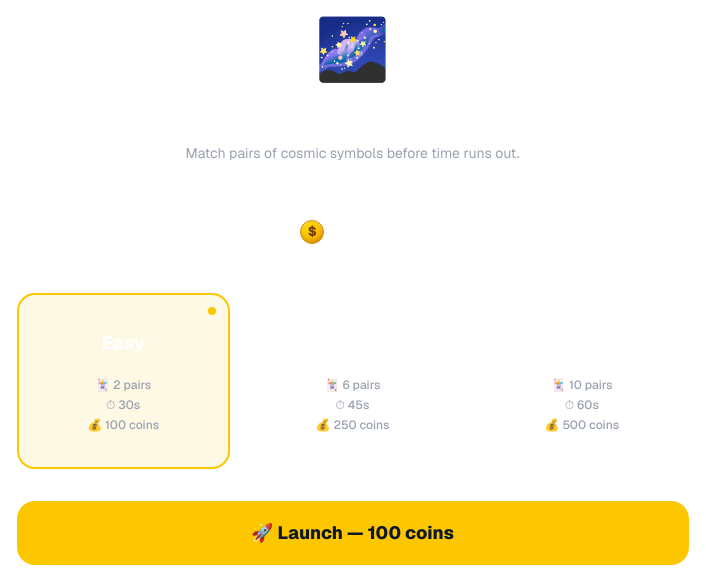
Scenario: Orbit Puzzle Game › allows selecting different difficulties
Click the button "Medium 🃏 6 pairs ⏱ 45s 💰 250 coins" at (352, 381), box [246,293,459,469]
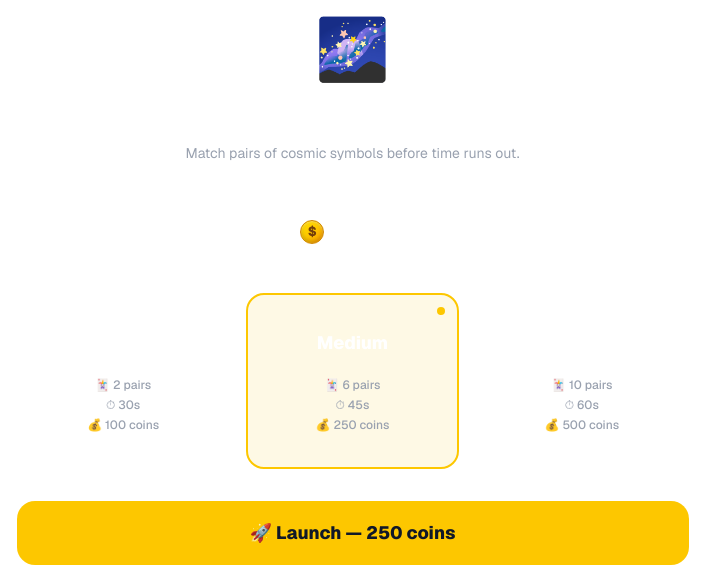
Now the button "🚀 Launch — 250 coins" is shown, box [16,501,688,565]
